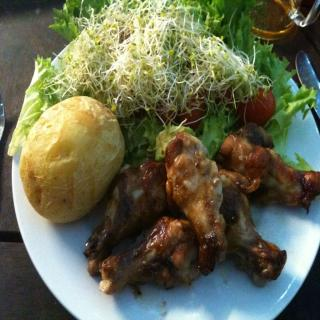tomato: (245, 86, 274, 124)
